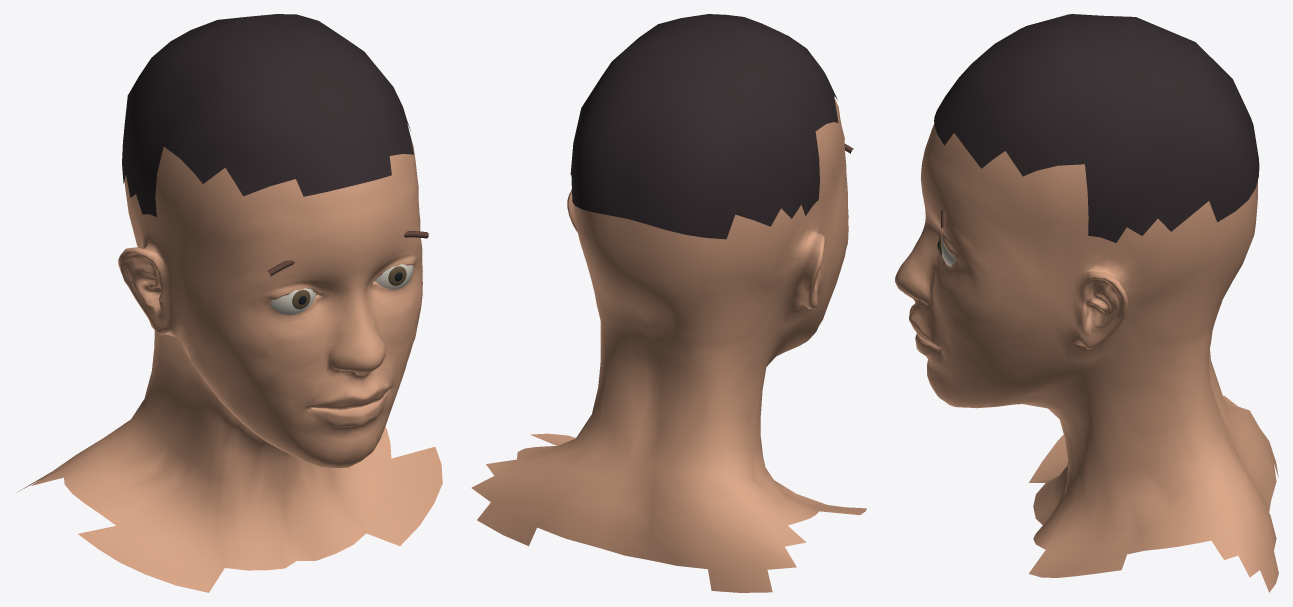
The model's file is patient-head-surface.glb.
The picture shows the model from 3 angles, left to right: view 1: azimuth 30°, elevation 25°; view 2: azimuth 150°, elevation 25°; view 3: azimuth 270°, elevation 25°; orthographic projection. The views are drawn at different scales.
Parts seen in each view (by area): view 1: MakeHumanHeadSurface; view 2: MakeHumanHeadSurface; view 3: MakeHumanHeadSurface.
Part boxes in pixels (left/top/right/bottom): MakeHumanHeadSurface: left=18, top=14, right=442, bottom=592; MakeHumanHeadSurface: left=471, top=14, right=866, bottom=592; MakeHumanHeadSurface: left=895, top=14, right=1278, bottom=592.
Size of the model in its own units: 1.42 by 1.95 by 1.36.
